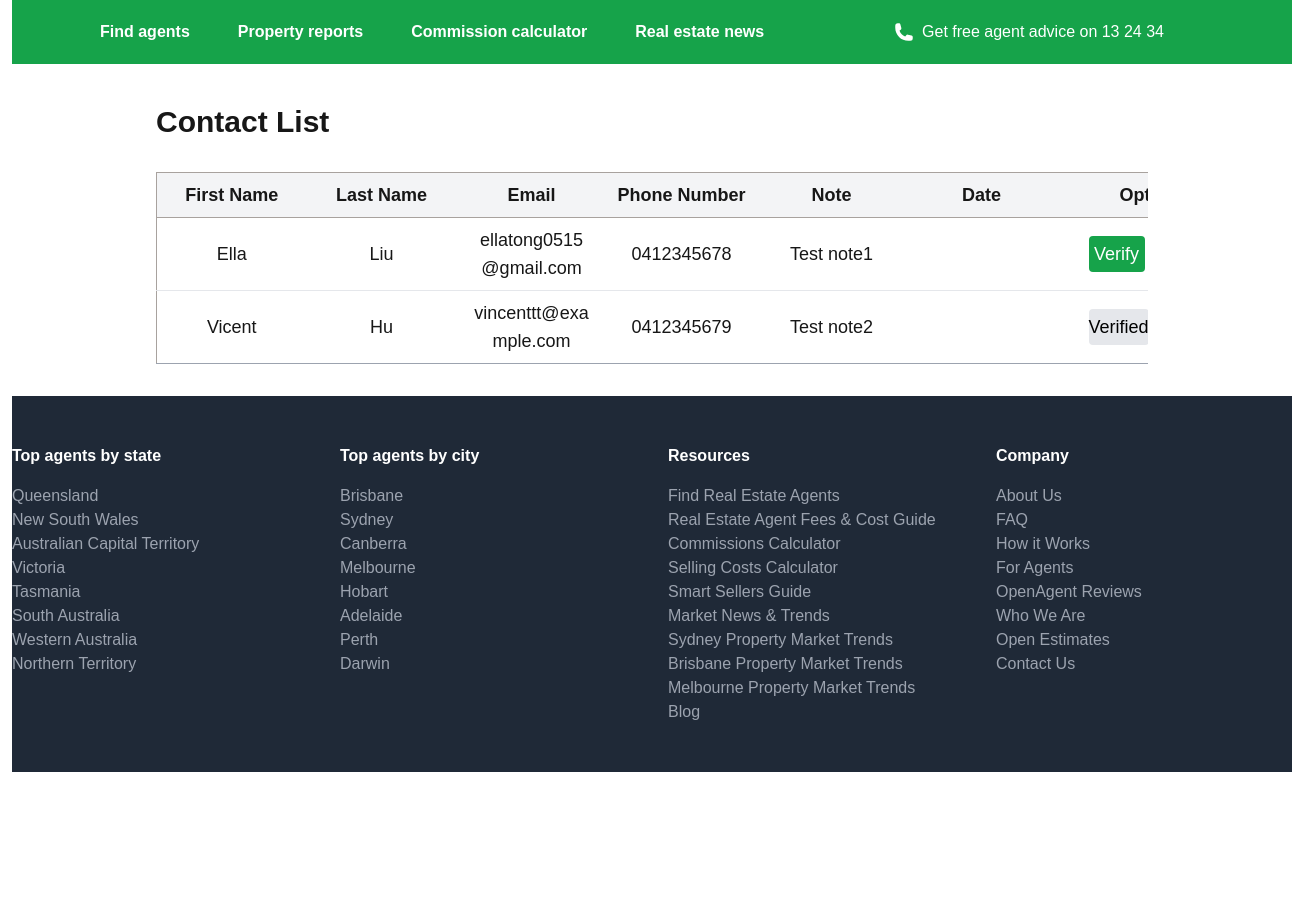
Test: ContactList test › check verify contact and update button state
Check: the text "Ella" is shown, box x1=156 y1=218 x2=306 y2=290
Click the button "Verify": (1116, 254) x1=1088 y1=236 x2=1144 y2=272
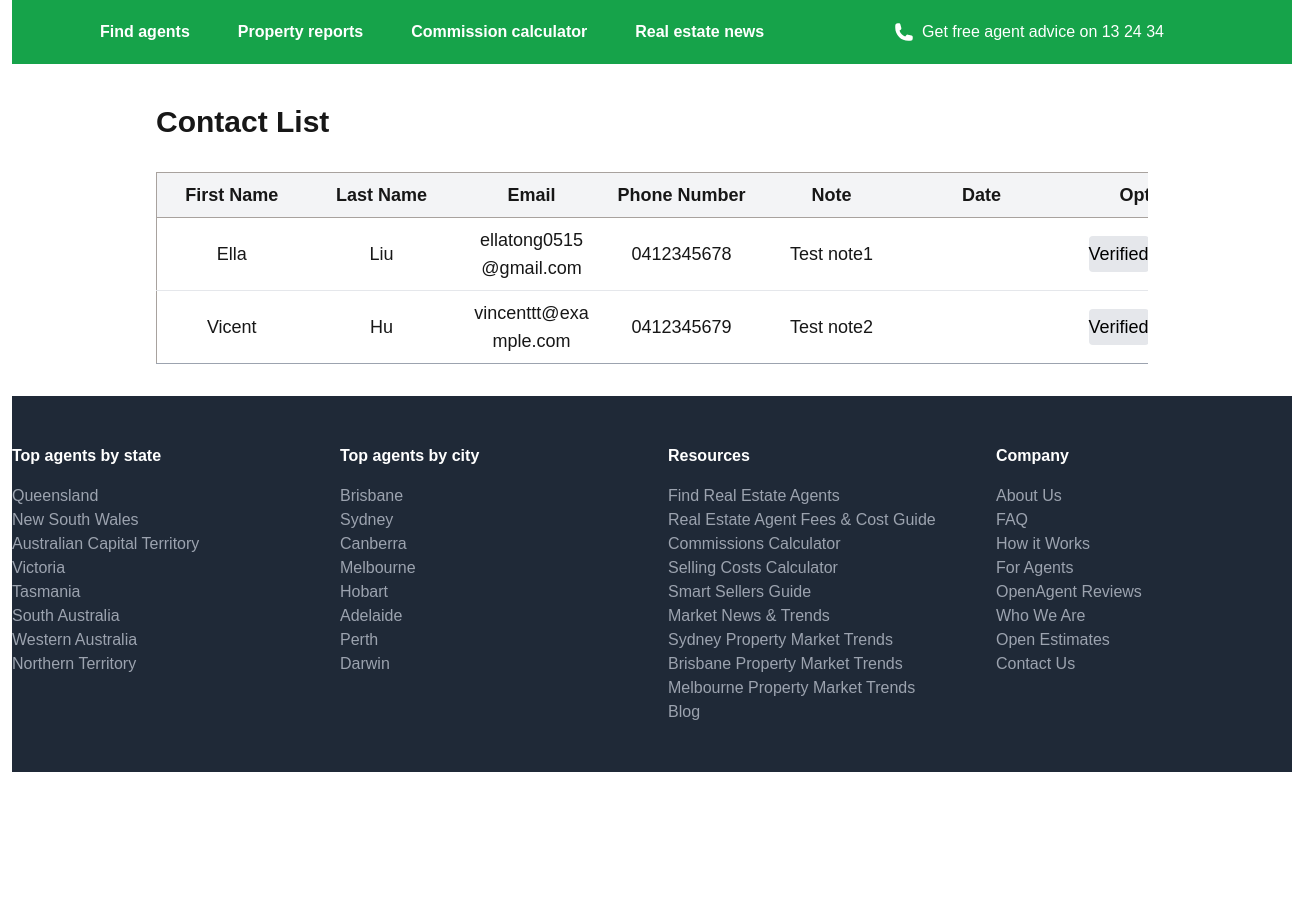
Check: the button "Verify" in the row of "Liu" reads "Verified", box x1=1088 y1=236 x2=1148 y2=272
Check: the button "Verify" in the row of "Liu" is disabled, box x1=1088 y1=236 x2=1148 y2=272
